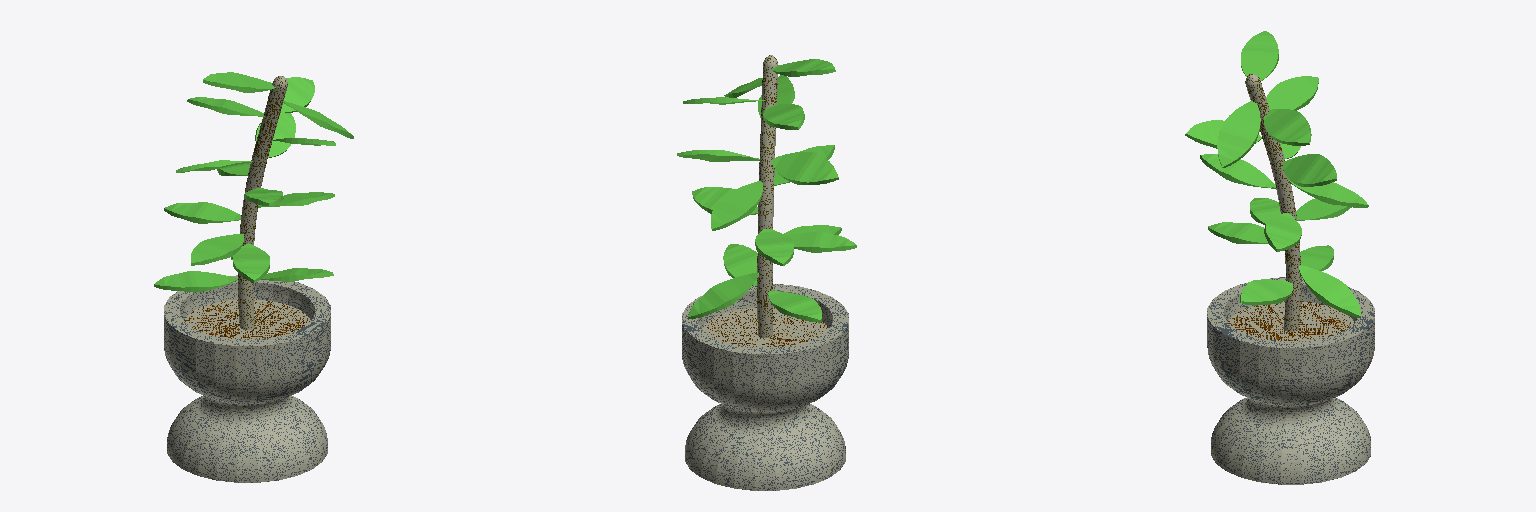
The picture shows the model from 3 angles: view 1: azimuth 30°, elevation 25°; view 2: azimuth 150°, elevation 25°; view 3: azimuth 270°, elevation 25°; orthographic projection.
Parts seen in each view (by area): view 1: mesh17_mesh17-geometry, mesh15_mesh15-geometry, mesh12_mesh12-geometry, mesh1_mesh1-geometry, mesh14_mesh14-geometry, mesh4_mesh4-geometry, mesh6_mesh6-geometry, mesh11_mesh11-geometry, mesh8_mesh8-geometry, mesh10_mesh10-geometry, mesh13_mesh13-geometry, mesh7_mesh7-geometry (+1 smaller); view 2: mesh17_mesh17-geometry, mesh16_mesh16-geometry, mesh3_mesh3-geometry, mesh5_mesh5-geometry, mesh15_mesh15-geometry, mesh12_mesh12-geometry, mesh1_mesh1-geometry, mesh10_mesh10-geometry, mesh11_mesh11-geometry, mesh4_mesh4-geometry, mesh8_mesh8-geometry, mesh7_mesh7-geometry; view 3: mesh17_mesh17-geometry, mesh13_mesh13-geometry, mesh5_mesh5-geometry, mesh6_mesh6-geometry, mesh8_mesh8-geometry, mesh4_mesh4-geometry, mesh11_mesh11-geometry, mesh9_mesh9-geometry, mesh10_mesh10-geometry, mesh7_mesh7-geometry, mesh3_mesh3-geometry, mesh14_mesh14-geometry (+4 smaller).
Part boxes in pixels (left/top/right/bottom): mesh17_mesh17-geometry: left=164, top=76, right=330, bottom=482; mesh15_mesh15-geometry: left=154, top=271, right=237, bottom=292; mesh12_mesh12-geometry: left=164, top=202, right=240, bottom=223; mesh1_mesh1-geometry: left=191, top=234, right=243, bottom=265; mesh14_mesh14-geometry: left=233, top=243, right=269, bottom=282; mesh4_mesh4-geometry: left=203, top=72, right=275, bottom=92; mesh6_mesh6-geometry: left=268, top=77, right=314, bottom=112; mesh11_mesh11-geometry: left=187, top=97, right=264, bottom=116; mesh8_mesh8-geometry: left=255, top=113, right=295, bottom=157; mesh10_mesh10-geometry: left=261, top=268, right=333, bottom=281; mesh13_mesh13-geometry: left=283, top=101, right=353, bottom=138; mesh7_mesh7-geometry: left=258, top=192, right=334, bottom=207; mesh17_mesh17-geometry: left=682, top=55, right=848, bottom=490; mesh16_mesh16-geometry: left=771, top=152, right=838, bottom=184; mesh3_mesh3-geometry: left=711, top=181, right=762, bottom=230; mesh5_mesh5-geometry: left=688, top=273, right=758, bottom=318; mesh15_mesh15-geometry: left=768, top=290, right=821, bottom=322; mesh12_mesh12-geometry: left=755, top=229, right=793, bottom=265; mesh1_mesh1-geometry: left=788, top=231, right=856, bottom=252; mesh10_mesh10-geometry: left=723, top=244, right=757, bottom=286; mesh11_mesh11-geometry: left=763, top=104, right=804, bottom=129; mesh4_mesh4-geometry: left=771, top=59, right=835, bottom=76; mesh8_mesh8-geometry: left=677, top=150, right=759, bottom=161; mesh7_mesh7-geometry: left=692, top=187, right=757, bottom=214; mesh17_mesh17-geometry: left=1207, top=74, right=1374, bottom=484; mesh13_mesh13-geometry: left=1217, top=101, right=1260, bottom=167; mesh5_mesh5-geometry: left=1299, top=265, right=1360, bottom=317; mesh6_mesh6-geometry: left=1264, top=109, right=1311, bottom=145; mesh8_mesh8-geometry: left=1282, top=154, right=1336, bottom=186; mesh4_mesh4-geometry: left=1241, top=31, right=1278, bottom=80; mesh11_mesh11-geometry: left=1266, top=76, right=1318, bottom=110; mesh9_mesh9-geometry: left=1200, top=154, right=1275, bottom=188; mesh10_mesh10-geometry: left=1240, top=279, right=1292, bottom=305; mesh7_mesh7-geometry: left=1264, top=213, right=1301, bottom=251; mesh3_mesh3-geometry: left=1289, top=180, right=1368, bottom=207; mesh14_mesh14-geometry: left=1208, top=222, right=1268, bottom=243.
Bounding box in the file's own units: 0.3551 × 0.856 × 0.3756.
5 materials, 1 textured.